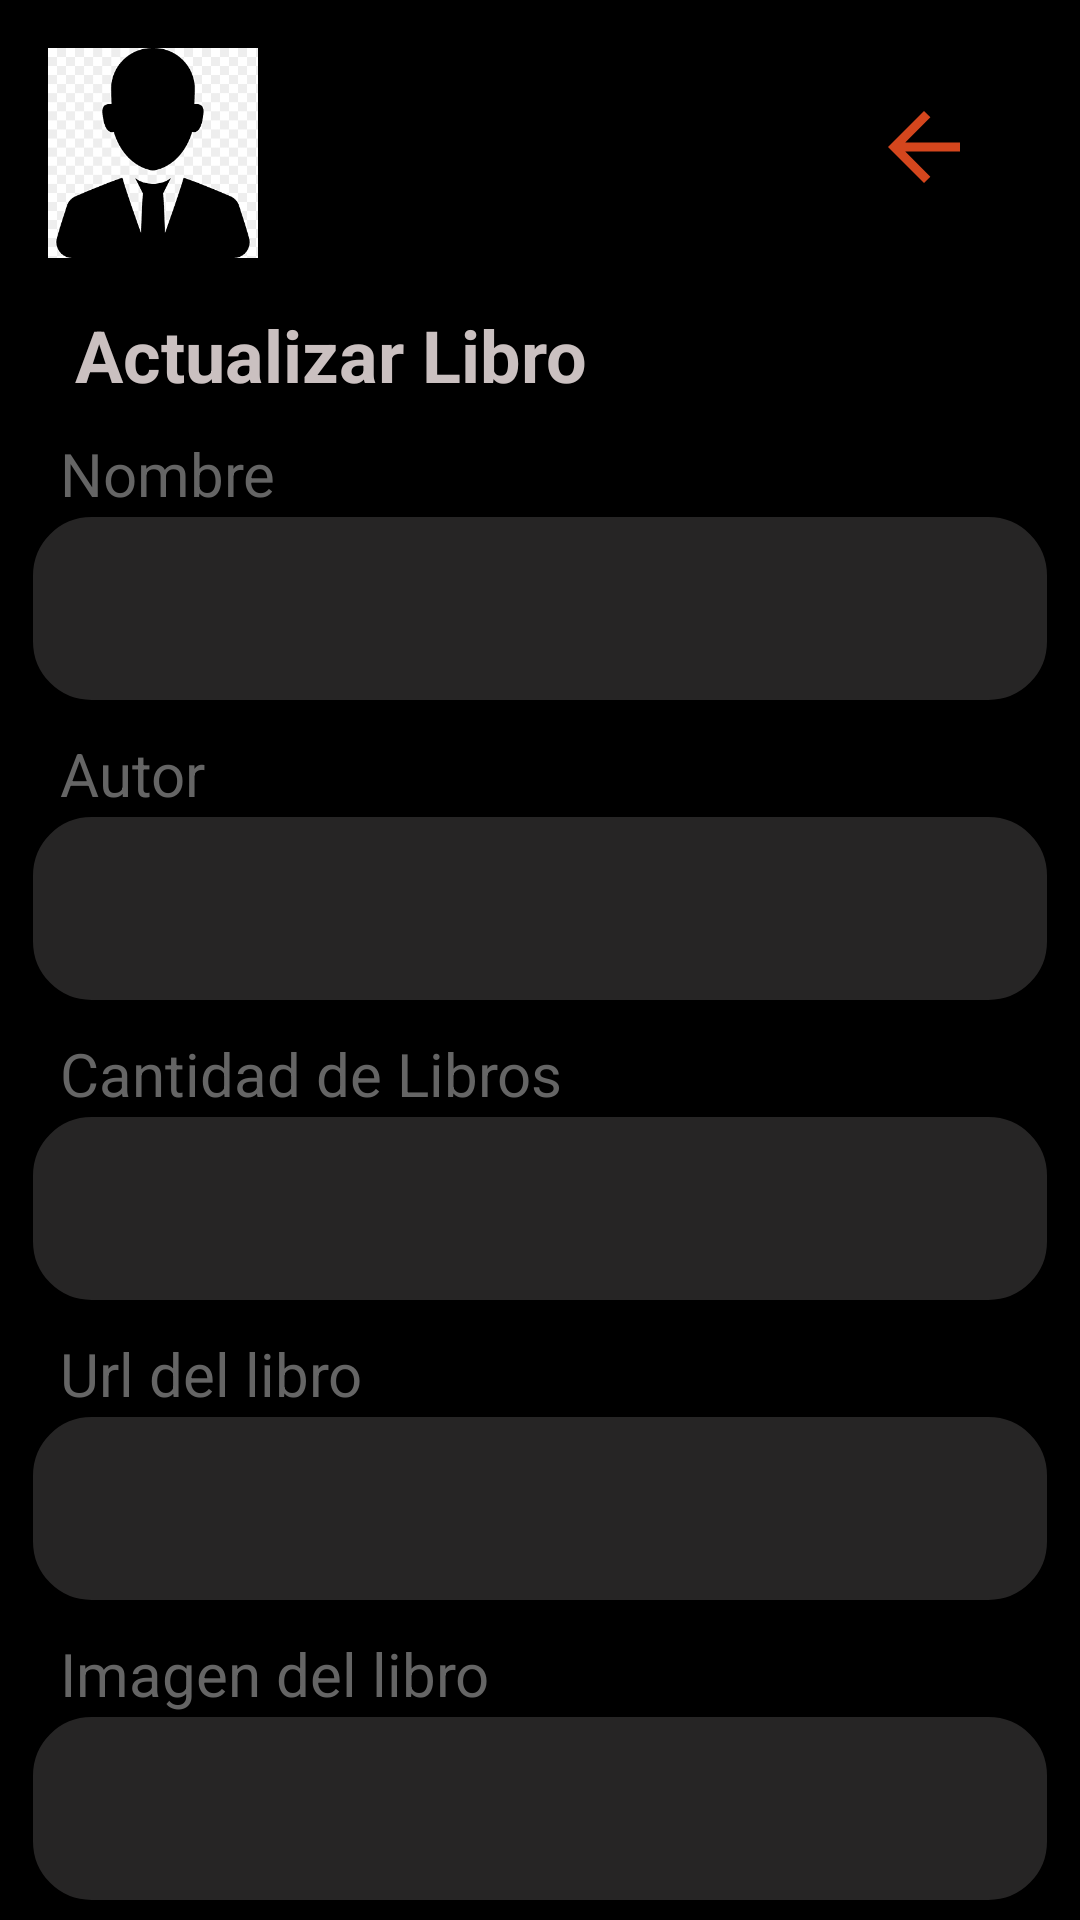

Icons on this 1080×1920 Android screen, each with its box as {"left": x1, "top": y1, "right": x2, "bottom": y2}:
admin: {"left": 48, "top": 48, "right": 258, "bottom": 258}
back flecha: {"left": 888, "top": 111, "right": 960, "bottom": 183}
